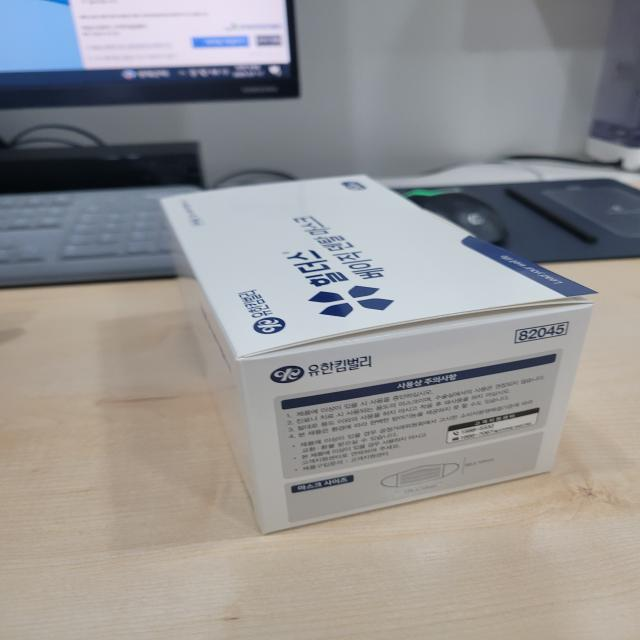mask: (134, 154, 610, 558)
